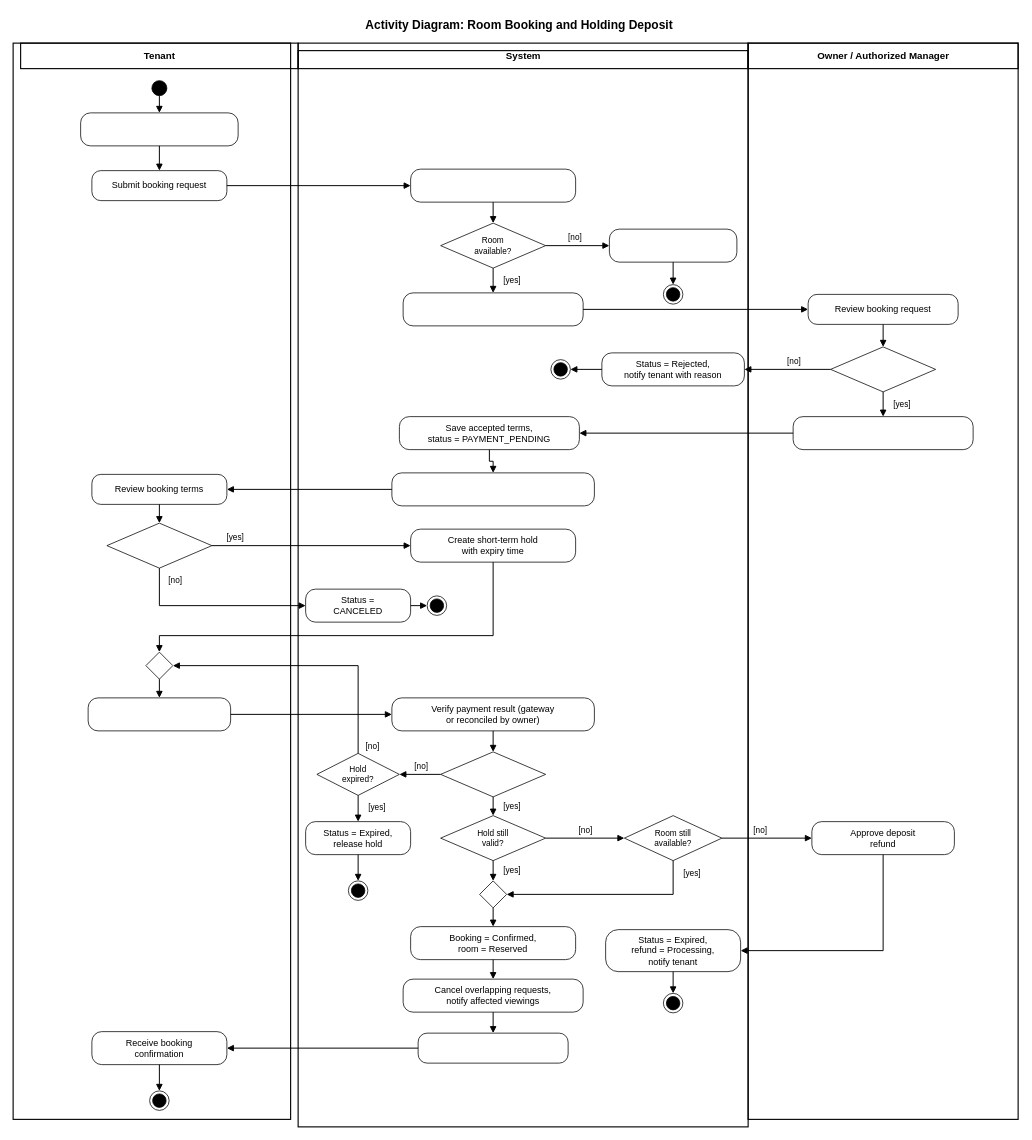
Some shapes in this 1032 by 1140 pixel diagram are drawn without their labels. Here are the shapes that lost their labels. From the top down, the centre of each, then its label:
pixel 159 129: Chọn phòng trống và ngày mún chuyển dô
pixel 493 185: Check room availability for the requested period
pixel 673 245: Show room is unavailable
pixel 492 309: Create booking, status = REQUEST_PENDING (chờ manager confirm)
pixel 883 369: Accept request?
pixel 882 433: Confirm move-in date, deposit amount and holding terms
pixel 492 489: Show payment deadline, hold expiry, cancellation and deposit terms
pixel 159 545: Accept terms?
pixel 159 714: Pay deposit (online or bank transfer)
pixel 493 774: Payment successful?
pixel 492 1047: Notify tenant and owner
